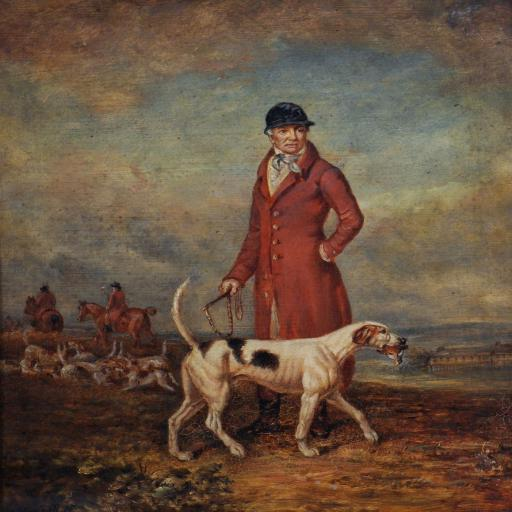Horse: (76, 296, 158, 352), (22, 295, 66, 333)
